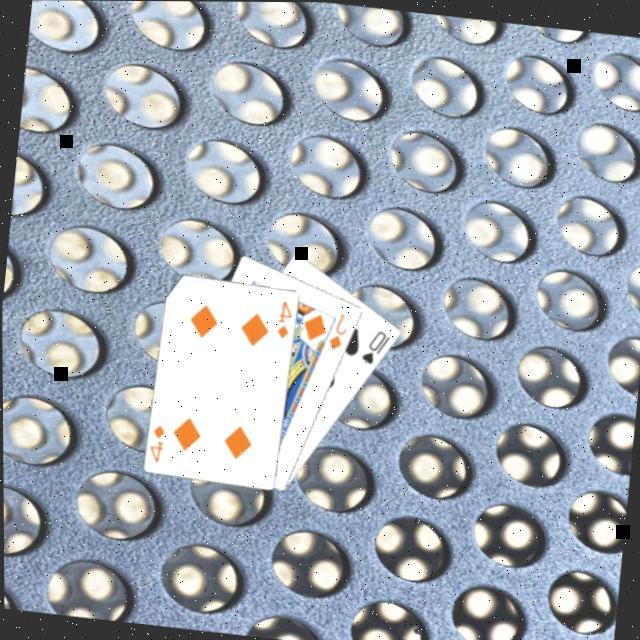10S: (358, 326, 394, 370)
4D: (274, 298, 296, 342), (147, 421, 169, 465)
JD: (326, 308, 352, 354)
